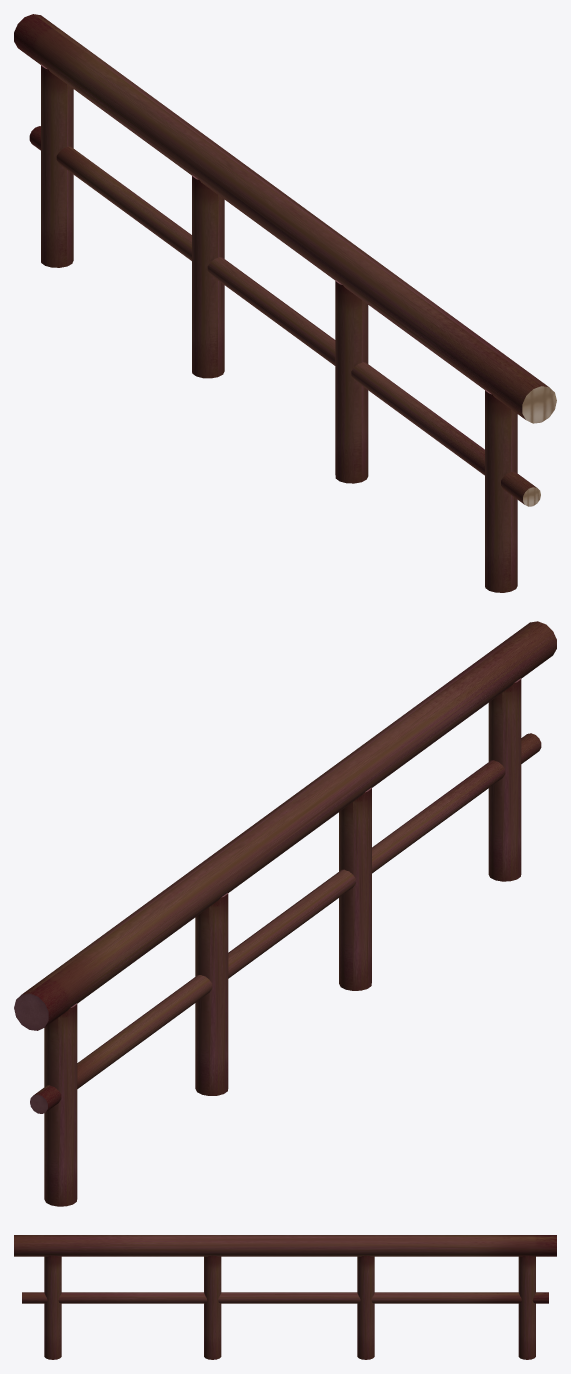
Rendered from Hek 2.fbx.
3 views of the same model, one above another, from view 1: azimuth 30°, elevation 25°; view 2: azimuth 150°, elevation 25°; view 3: azimuth 270°, elevation 25° (orthographic). The views are drawn at different scales.
Parts seen in each view (by area): view 1: pCylinder21, pCylinder24, pCylinder19, pCylinder20, pCylinder22, pCylinder23; view 2: pCylinder21, pCylinder24, pCylinder23, pCylinder22, pCylinder20, pCylinder19; view 3: pCylinder21, pCylinder24, pCylinder20, pCylinder22, pCylinder19, pCylinder23.
Part boxes in pixels (box(x1,y1,x2,y2)): pCylinder21: box(14, 14, 556, 423); pCylinder24: box(29, 126, 540, 506); pCylinder19: box(335, 280, 368, 483); pCylinder20: box(192, 175, 224, 378); pCylinder22: box(485, 389, 517, 592); pCylinder23: box(41, 64, 73, 267); pCylinder21: box(14, 621, 556, 1030); pCylinder24: box(30, 733, 541, 1113); pCylinder23: box(44, 1003, 77, 1206); pCylinder22: box(488, 678, 521, 881); pCylinder20: box(195, 893, 228, 1095); pCylinder19: box(339, 787, 371, 990); pCylinder21: box(14, 1235, 556, 1256); pCylinder24: box(22, 1292, 548, 1303); pCylinder20: box(357, 1255, 374, 1359); pCylinder22: box(44, 1255, 61, 1359); pCylinder19: box(204, 1255, 221, 1359); pCylinder23: box(518, 1255, 535, 1359).
Size of the model in its own units: 4.17 by 25.97 by 106.
1 material, 1 textured.
